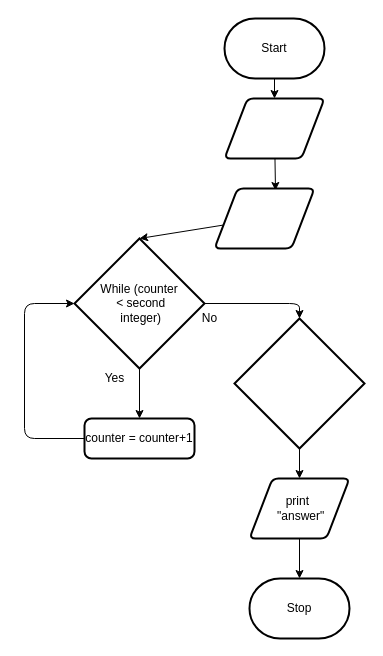
Image size: 383x656. Some labels were removed from this diagram. Here are the shapes that lost their labels. From the top down, the centre of each, then its label:
the point at 274,128: Input first integer
the point at 264,218: Input second integer
the point at 299,383: answer = answer + firstInteger
